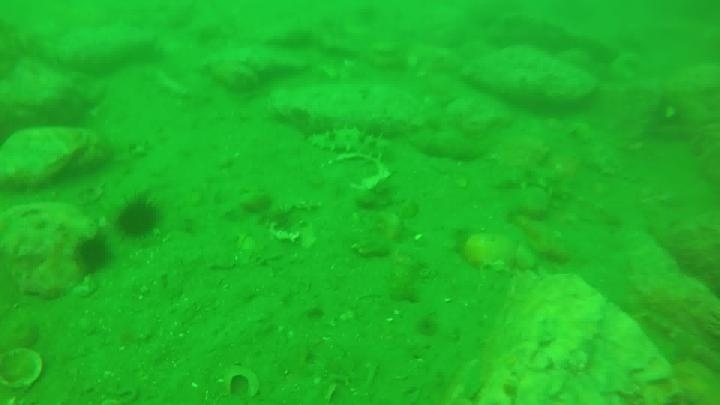echinus: (114, 194, 162, 241), (71, 233, 113, 277)
holothurian: (306, 124, 394, 164), (490, 157, 571, 196)
